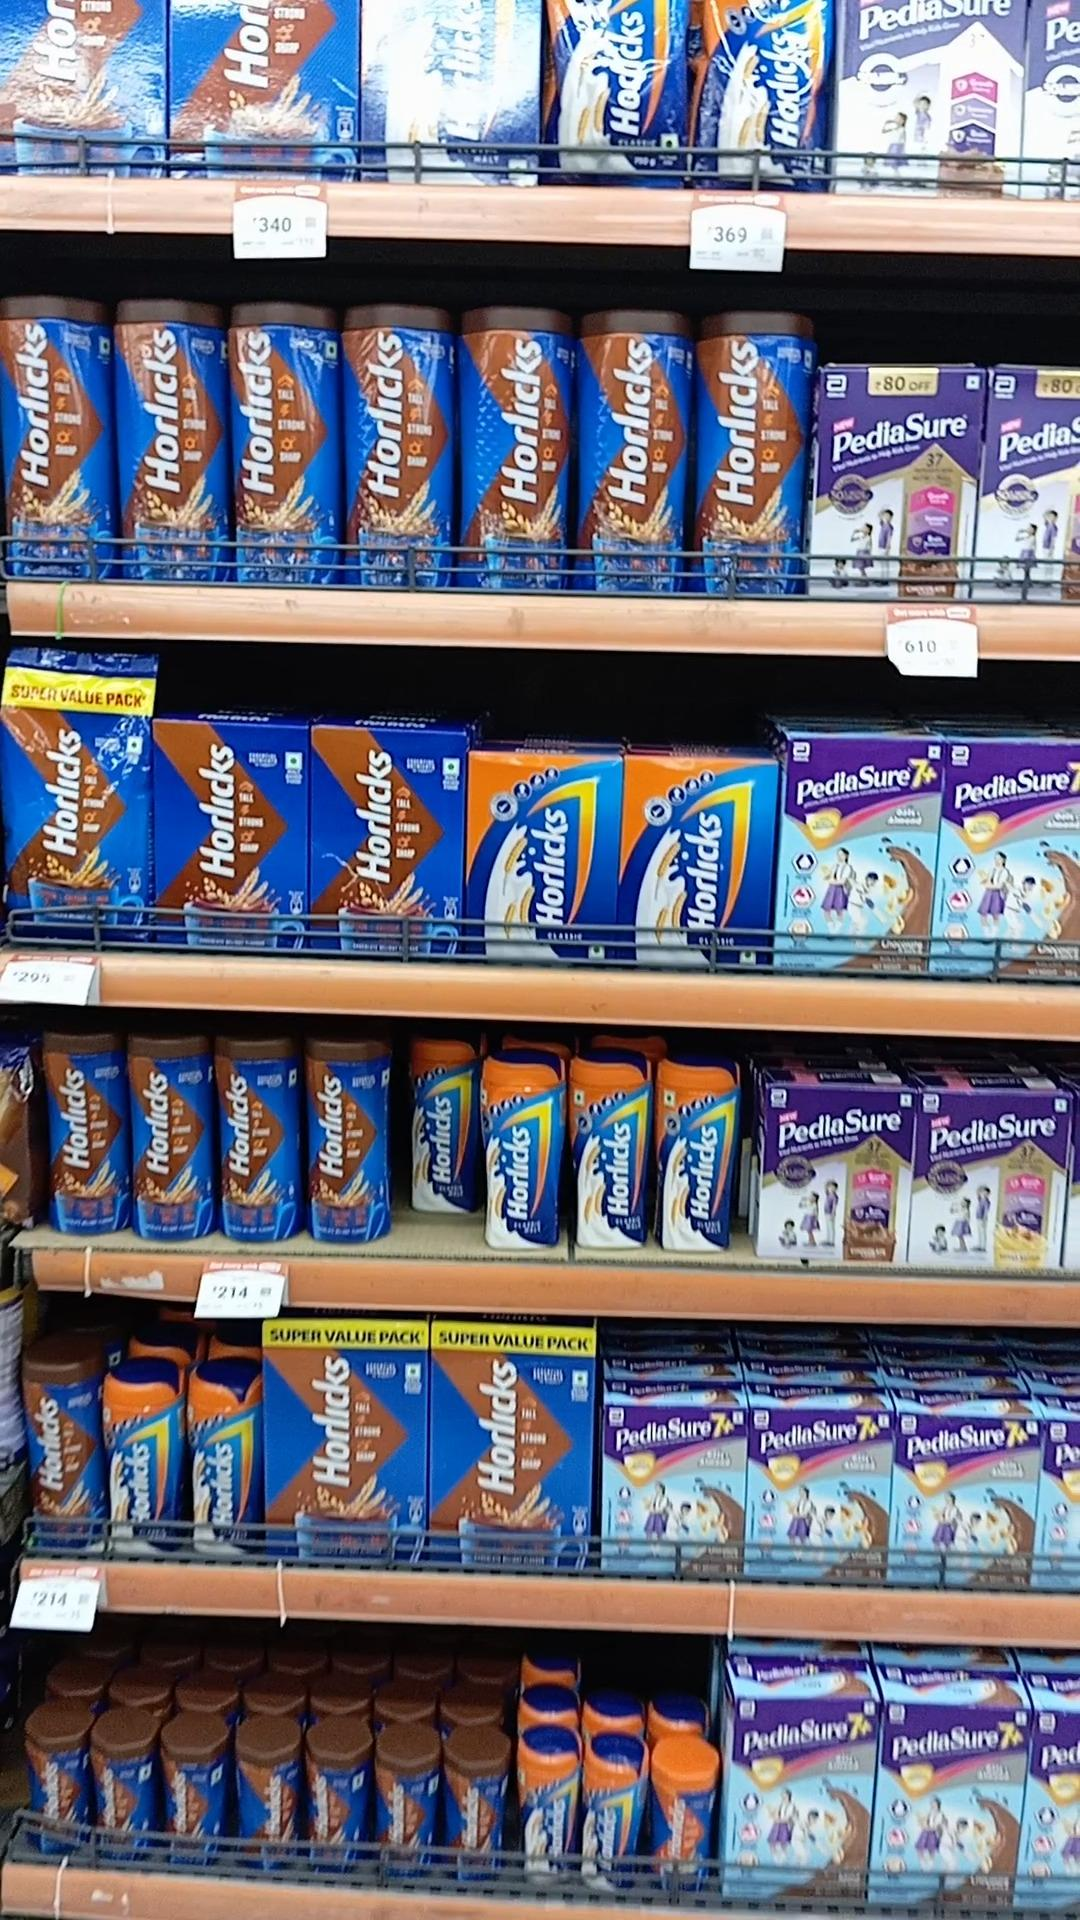HORLICK_CHOCOLATE_1_KG_JAR: (456, 299, 572, 589), (699, 305, 814, 596), (582, 302, 695, 595), (228, 301, 338, 584), (113, 293, 220, 583), (344, 305, 450, 587), (0, 291, 102, 576)
HORLICK_CHOCOLATE_1_KG_PACK: (261, 1321, 426, 1569), (438, 1320, 588, 1561)
HORLICK_CHOCOLATE_200_G_JAR: (233, 1716, 301, 1863), (443, 1730, 506, 1882), (91, 1714, 157, 1854), (306, 1724, 368, 1866), (29, 1709, 87, 1857), (377, 1730, 435, 1874), (162, 1717, 224, 1847)
HORLICK_CHOCOLATE_500_G_JAR: (42, 1018, 129, 1236), (215, 1018, 301, 1237), (309, 1027, 393, 1247), (13, 1341, 96, 1555), (136, 1019, 208, 1236)
HORLICK_CHOCOLATE_500_G_PACK: (153, 720, 307, 960), (313, 727, 463, 965)
HORLICK_CHOCOLATE_750_G_POUCH: (0, 647, 142, 953)
HORLICK_CLASSIC_MALT_200_G_JAR: (583, 1731, 641, 1892), (522, 1727, 574, 1871)
HORLICK_CLASSIC_MALT_500_G_JAR: (487, 1035, 567, 1254), (100, 1357, 181, 1561), (574, 1047, 650, 1251), (666, 1052, 741, 1255), (409, 1027, 481, 1225), (186, 1362, 255, 1560)
HORLICK_CLASSIC_MALT_500_G_PACK: (629, 754, 775, 982), (472, 749, 620, 975)
PEDIASURE_7_PLUS_CHOCOLATE_400_G_PACK: (783, 731, 935, 969), (948, 738, 1080, 982), (731, 1693, 868, 1909), (882, 1704, 1014, 1911), (899, 1416, 1047, 1584), (752, 1407, 890, 1581), (608, 1400, 742, 1576)
PEDIASURE_CHOCOLATE_500_G_PACK: (820, 363, 982, 603), (760, 1083, 916, 1262), (922, 1089, 1056, 1266)
